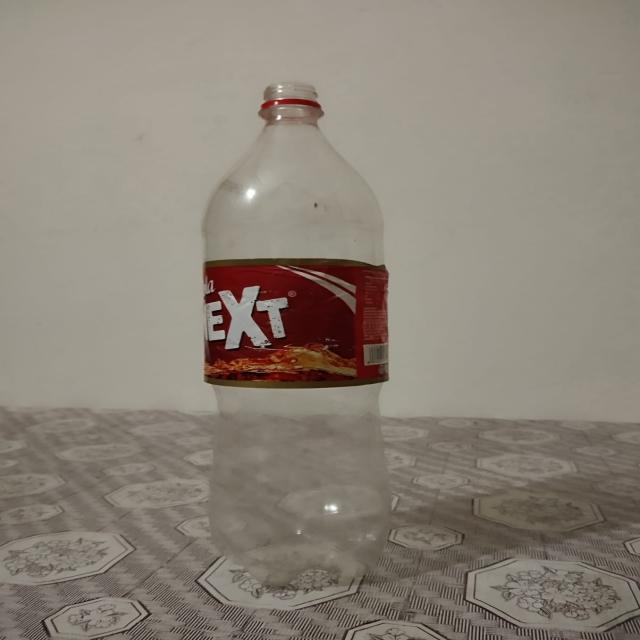bottle: (195, 87, 387, 592)
label: (200, 258, 382, 384)
